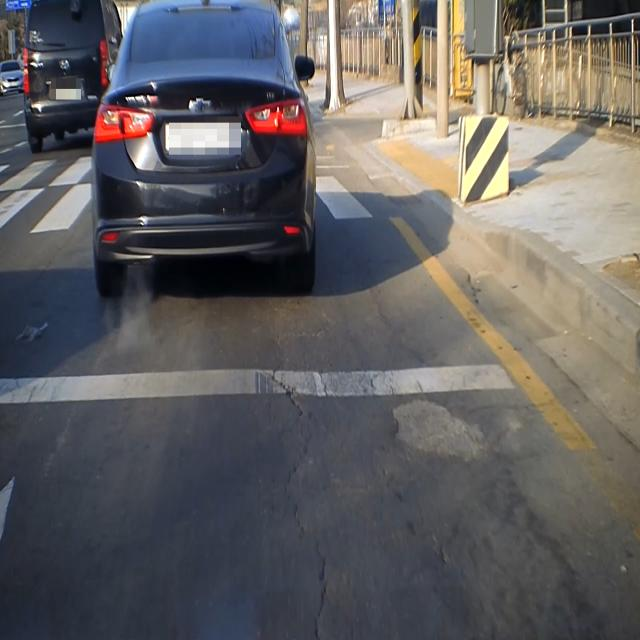Pothole: (386, 388, 492, 476)
